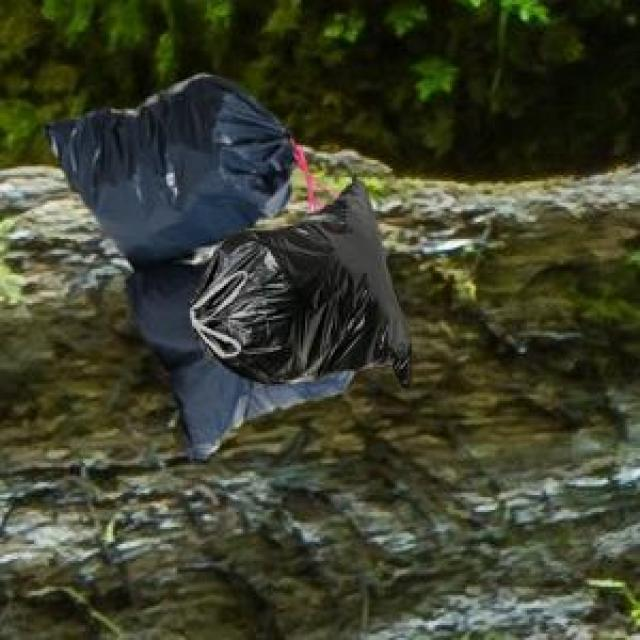Trashbag: (41, 72, 300, 270), (188, 178, 417, 395)
